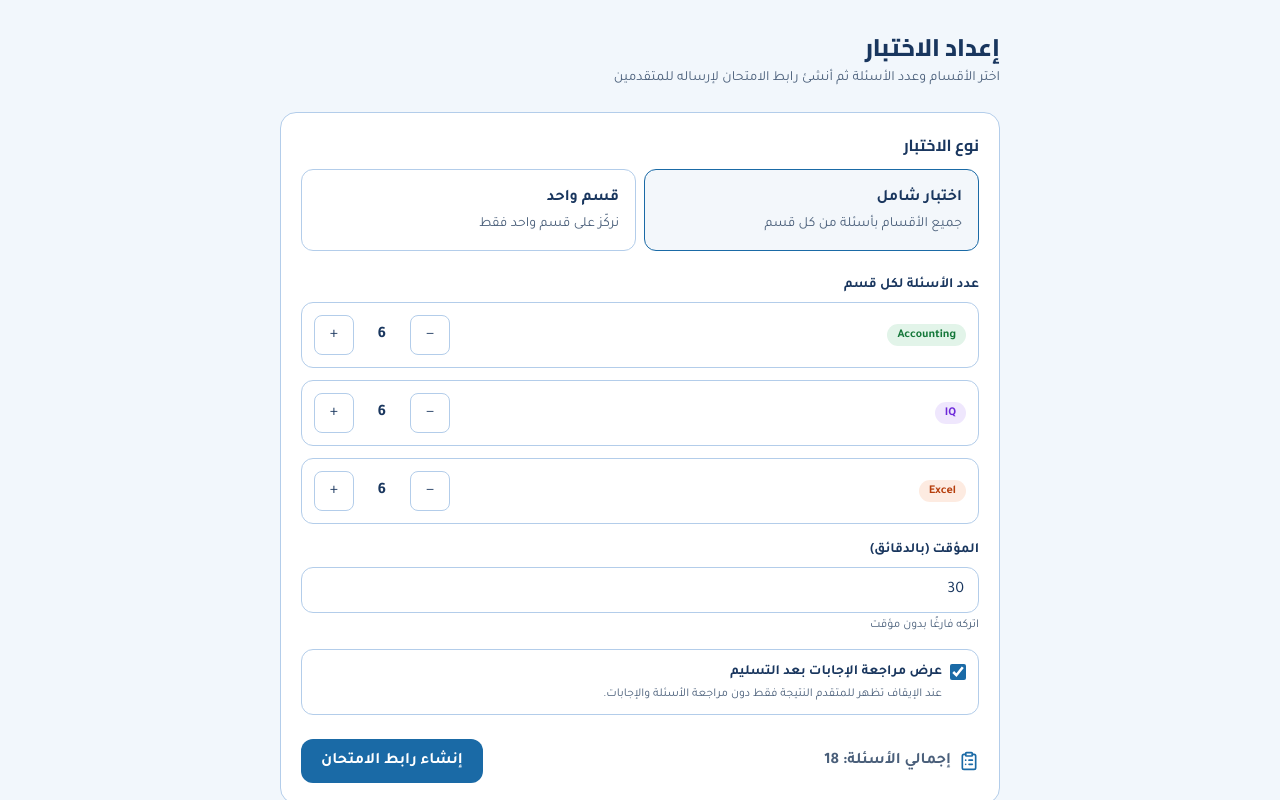
Test: QuizSetupPage — إنشاء رابط امتحان للمتقدمين › ينشئ الامتحان ويعرض رابط المشاركة في نافذة بدل دخول الامتحان
The width and height of the screenshot is (1280, 800).
Click the button "إنشاء رابط الامتحان". click: x=392, y=761
box: [301,739,483,783]
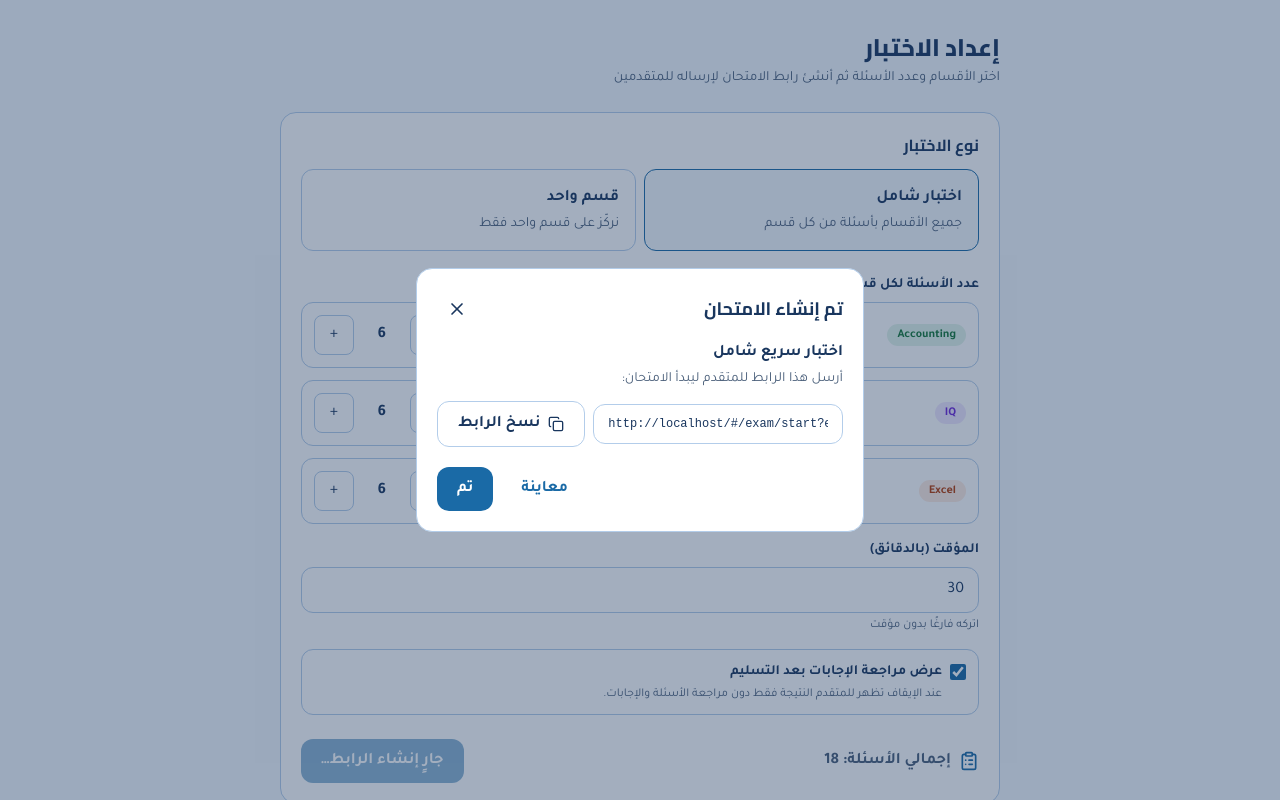
Check: the heading "تم إنشاء الامتحان" is shown, box [704,295,843,323]
Check: the field showing "exam=quick-" is shown, box [593,404,843,444]
Check: the button "نسخ الرابط" is shown, box [437,401,585,447]
